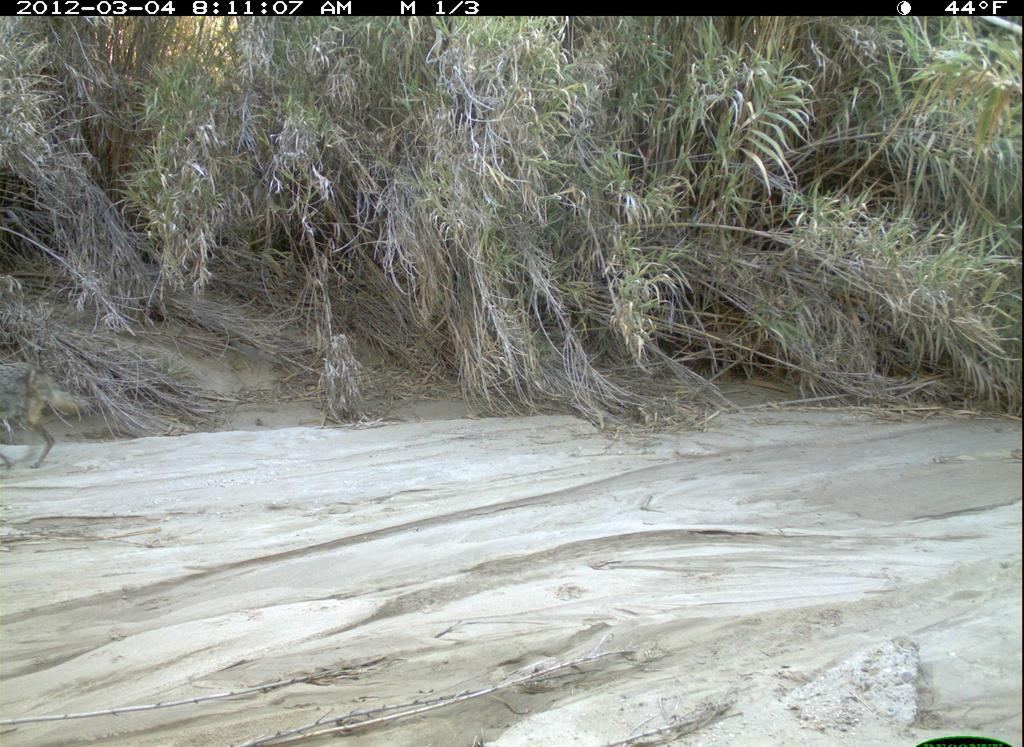coyote: (6, 356, 104, 474)
